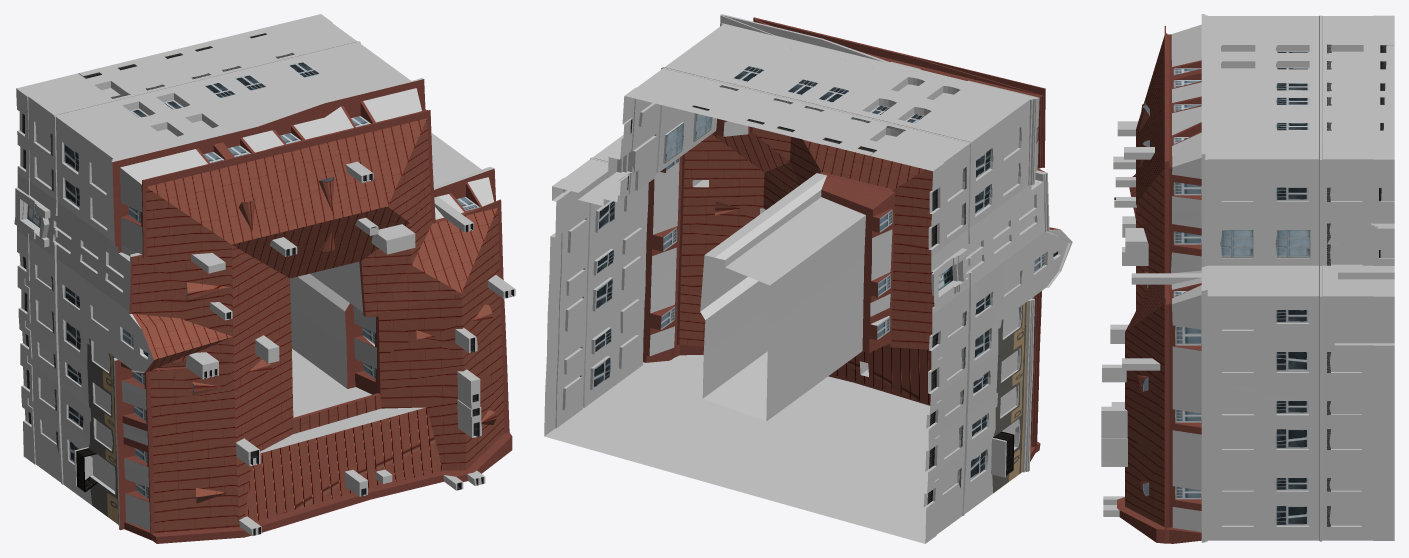
File: Uus_24-origo.obj
3 views of the same model, side by side, from view 1: azimuth 30°, elevation 25°; view 2: azimuth 150°, elevation 25°; view 3: azimuth 270°, elevation 25° (orthographic). The views are drawn at different scales.
Parts seen in each view (by area): view 1: Uus_24; view 2: Uus_24; view 3: Uus_24.
Part boxes in pixels (x1,y1,x2,y2): Uus_24: (14,14,515,543); Uus_24: (544,14,1072,543); Uus_24: (1101,14,1394,543).
Bounding box in the file's own units: 29 × 26.5 × 19.33.
